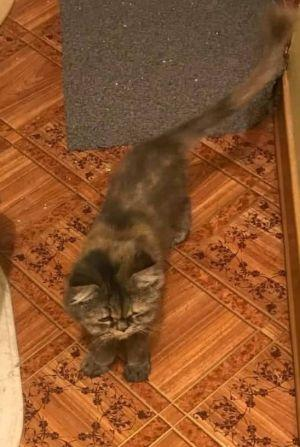persian: (65, 247, 168, 344)
